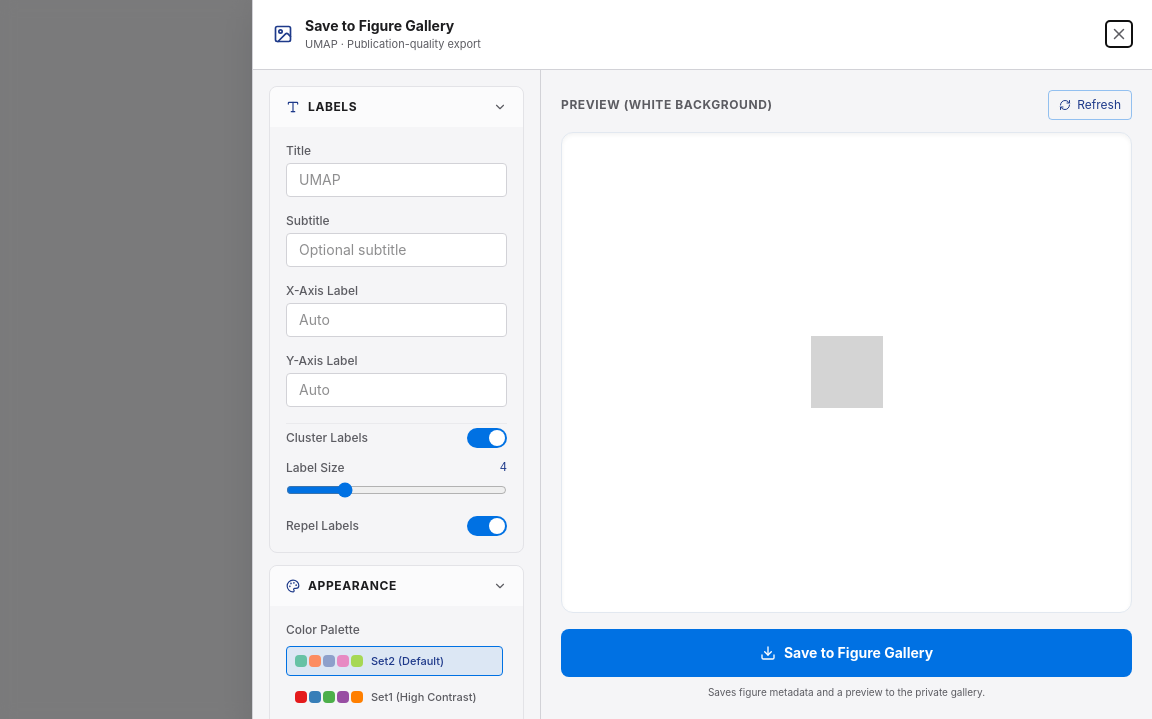
FigureSavePanel component › replaces a hostile save error with researcher-safe recovery text
Step 1. Click the button "Save to Figure Gallery" → (846, 653), box [561,629,1132,677]
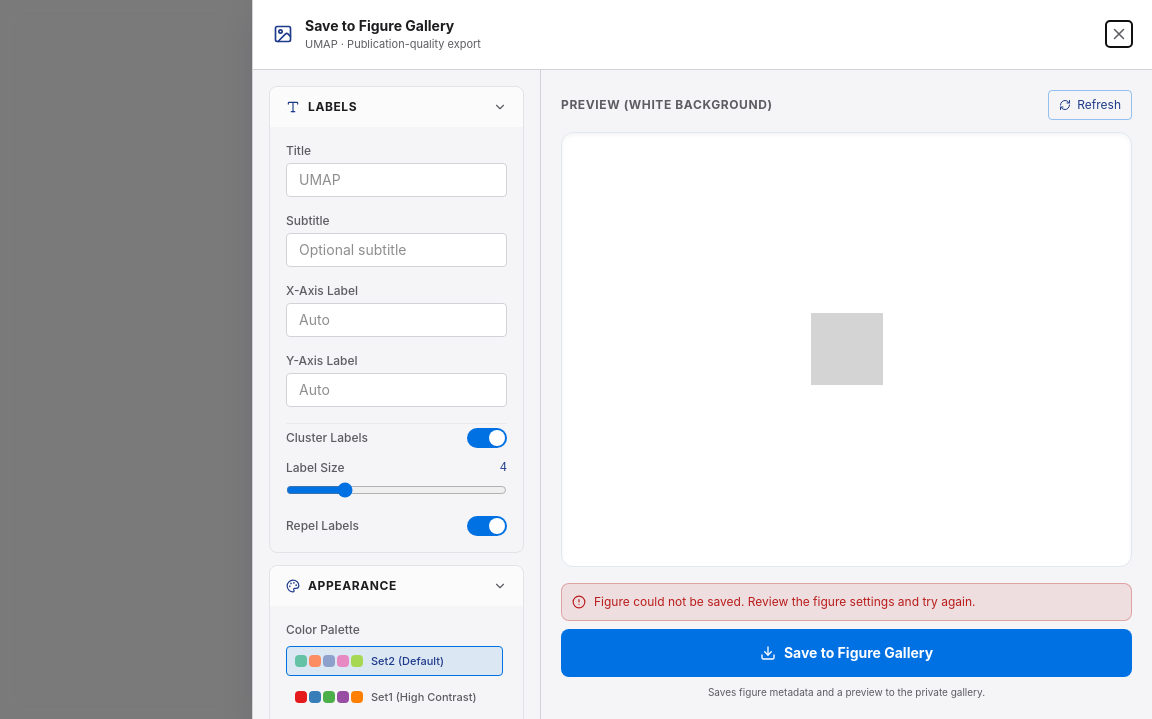
Expected: the text "Figure could not be saved. Review the figure settings and try again." is shown, [594,594,976,610]
